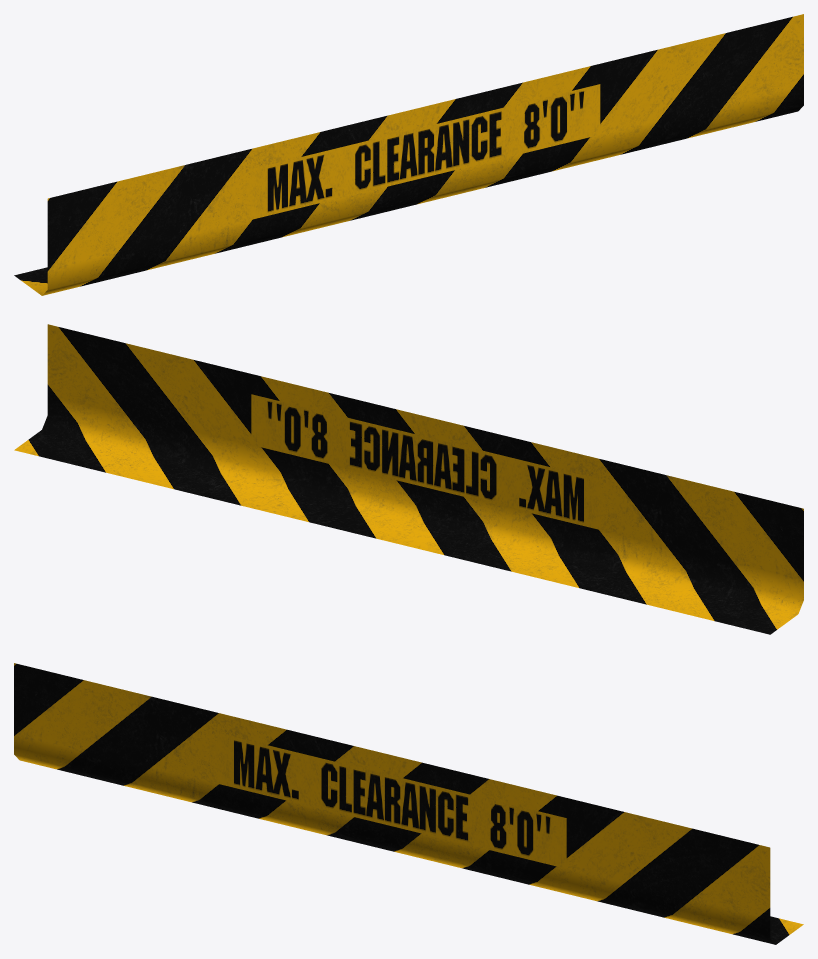
Rendered from signage_longhall_arch_ceiling.fbx.
The picture shows the model from 3 angles, top to bottom: view 1: azimuth 30°, elevation 25°; view 2: azimuth 150°, elevation 25°; view 3: azimuth 330°, elevation 25°; orthographic projection.
Visible parts, largest first — view 1: signage_longhall_arch_ceiling; view 2: signage_longhall_arch_ceiling; view 3: signage_longhall_arch_ceiling.
Boxes of the visible parts, bbox=[...] form: signage_longhall_arch_ceiling: bbox=[14, 14, 803, 295]; signage_longhall_arch_ceiling: bbox=[14, 324, 803, 634]; signage_longhall_arch_ceiling: bbox=[14, 663, 803, 944].
Size of the model in its own units: 0.1524 by 1.98 by 0.254.
